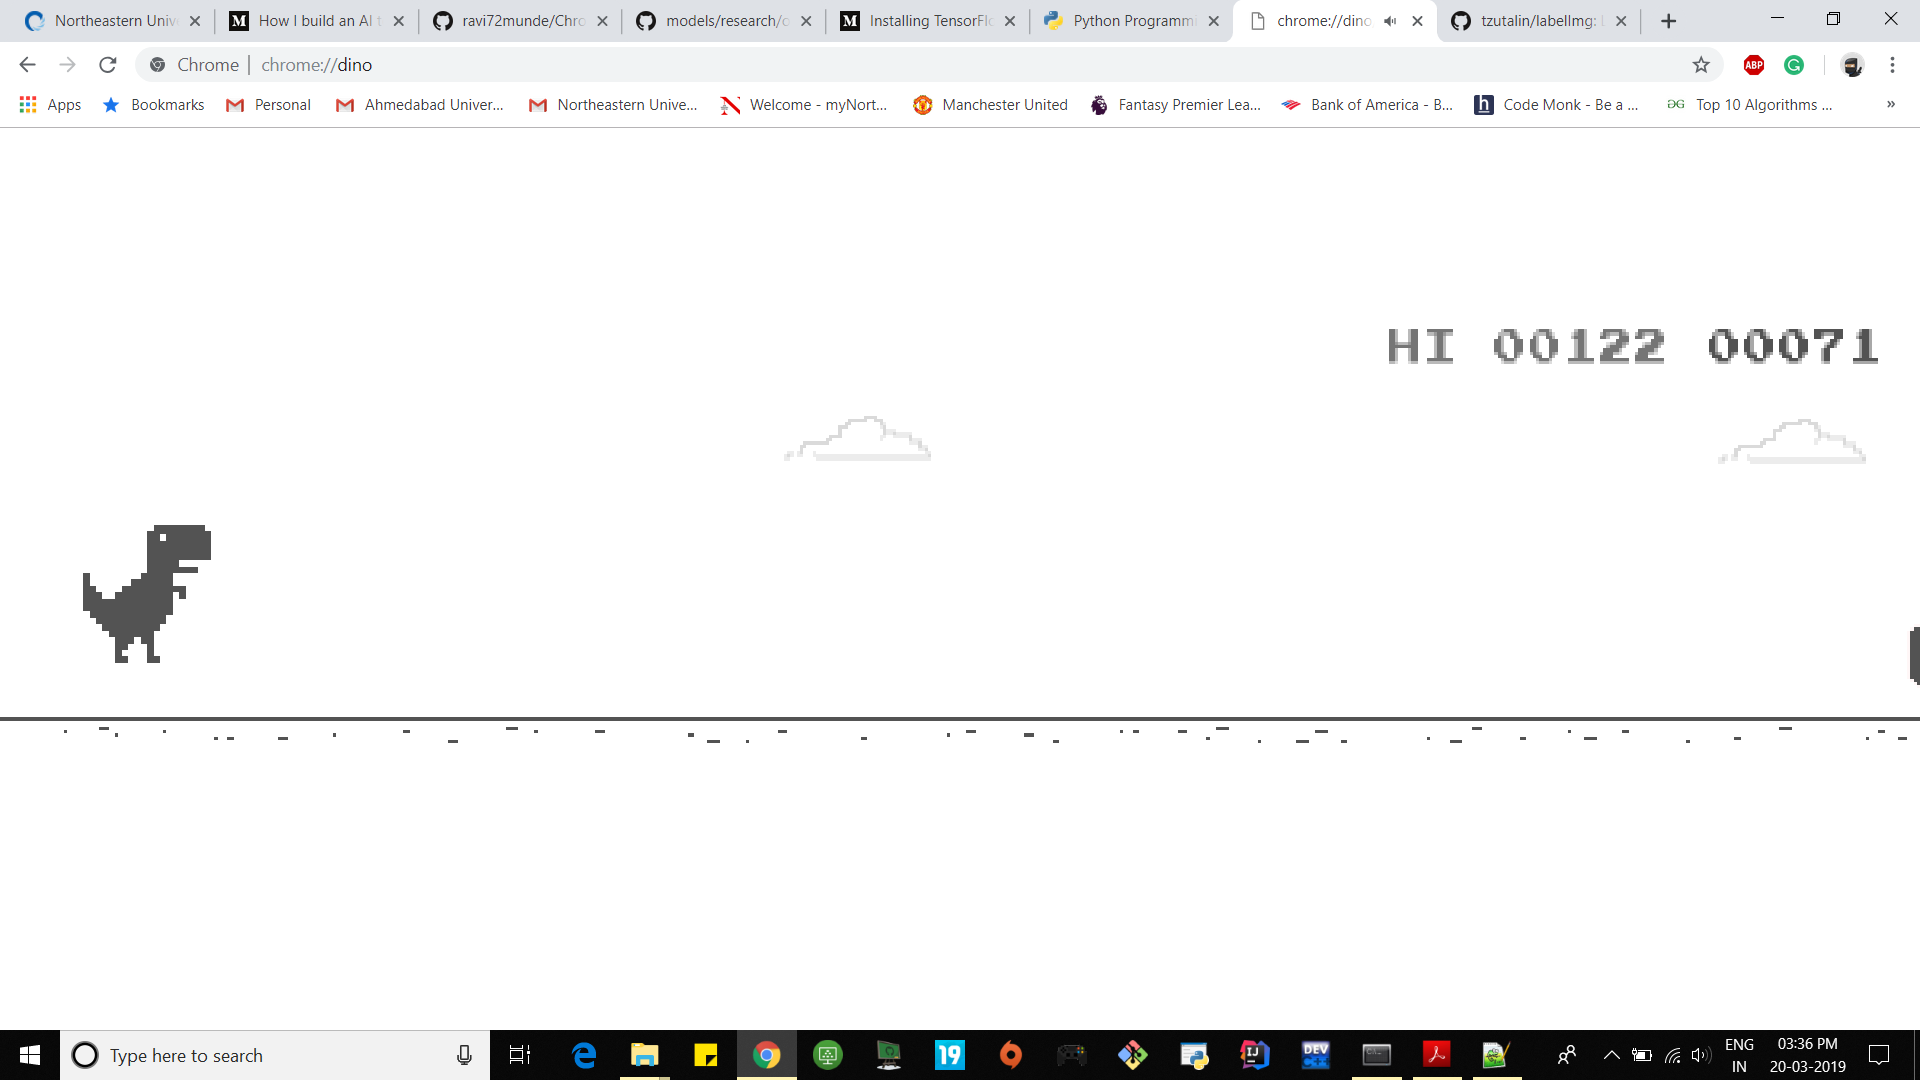dino: (80, 517, 212, 665)
